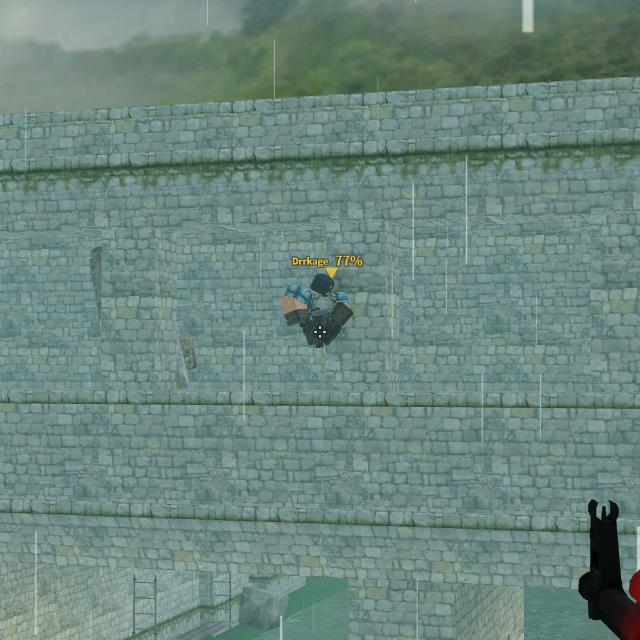Head: (310, 274, 333, 295)
Player: (283, 272, 353, 348)
